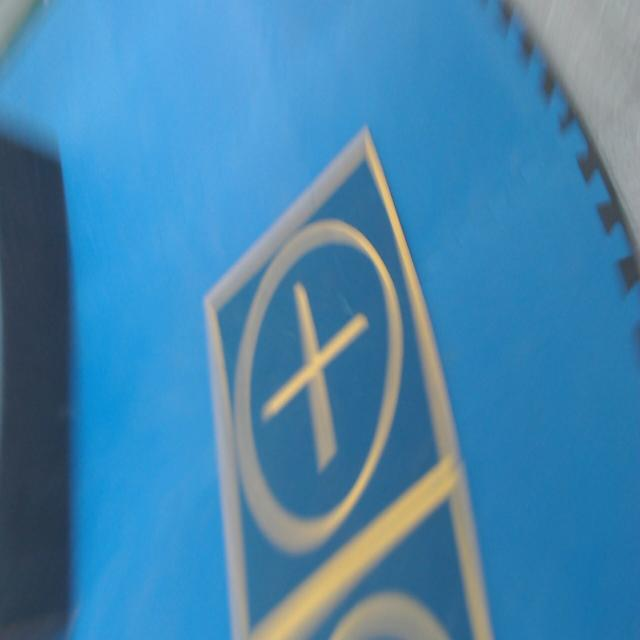base_pouso: (202, 123, 462, 639), (269, 457, 493, 639)
